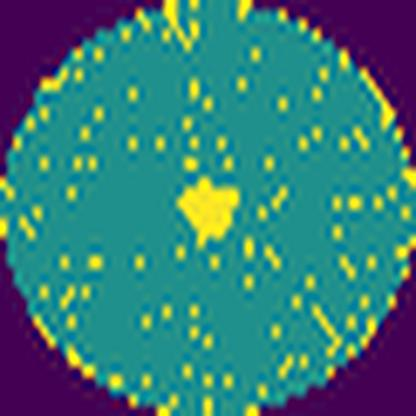Center: (174, 176, 242, 246)
